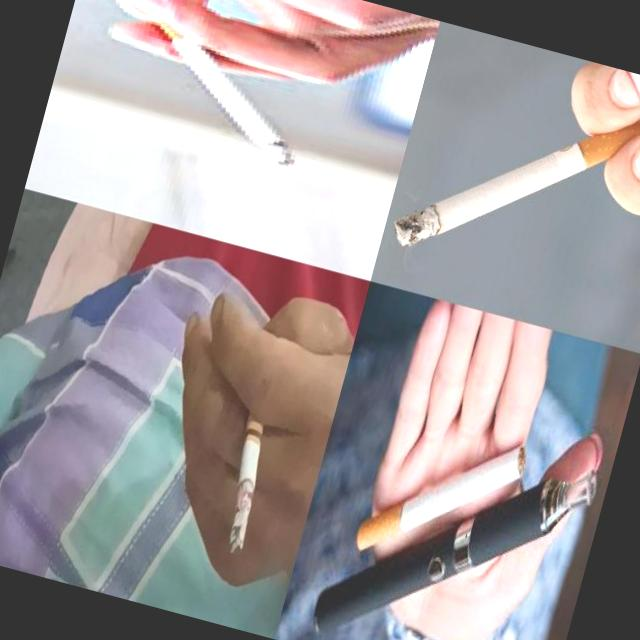smoke: (386, 45, 640, 305), (110, 0, 326, 171), (352, 408, 530, 586), (209, 381, 286, 559)
